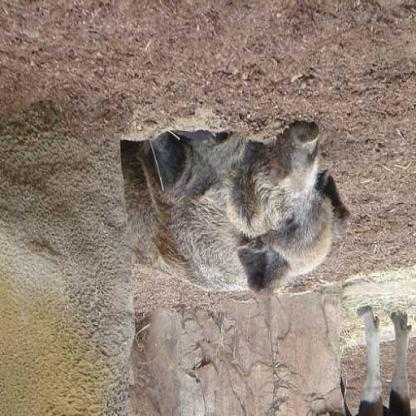boar: (112, 86, 349, 333)
